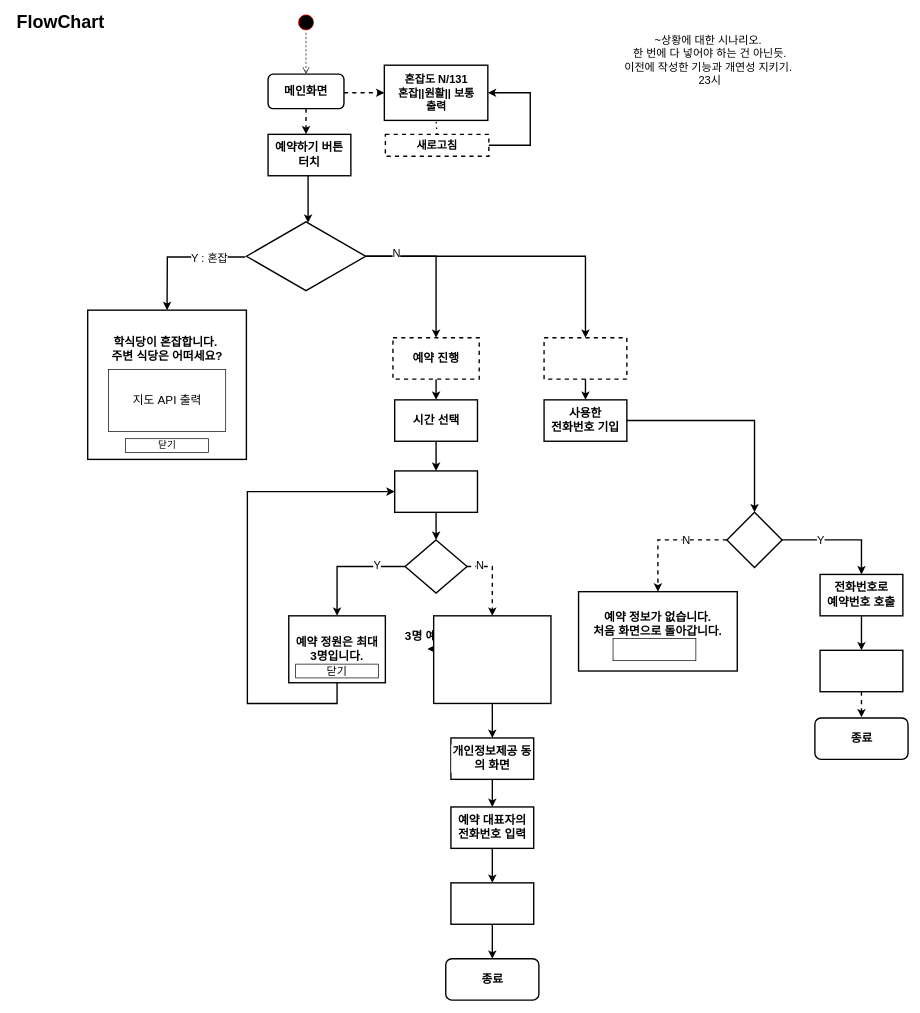
The diagram is 920 pixels wide and 1013 high, and some of its shapes have lost their labels. Here are the shapes that lost their labels. From the top down, the centre of each, then its label:
At [305,255]: "좌석이 110석 이상 찼나?".
At [585,358]: "예약 번호 조회".
At [436,491]: "좌석 선택".
At [754,539]: "대조".
At [435,566]: "3<좌석".
At [492,659]: "좌석 선택창 출력&& 고객이 좌석 선택".
At [654,649]: "확인".
At [861,670]: "예약번호 출력 팝업".
At [492,903]: "예약 번호 출력".
